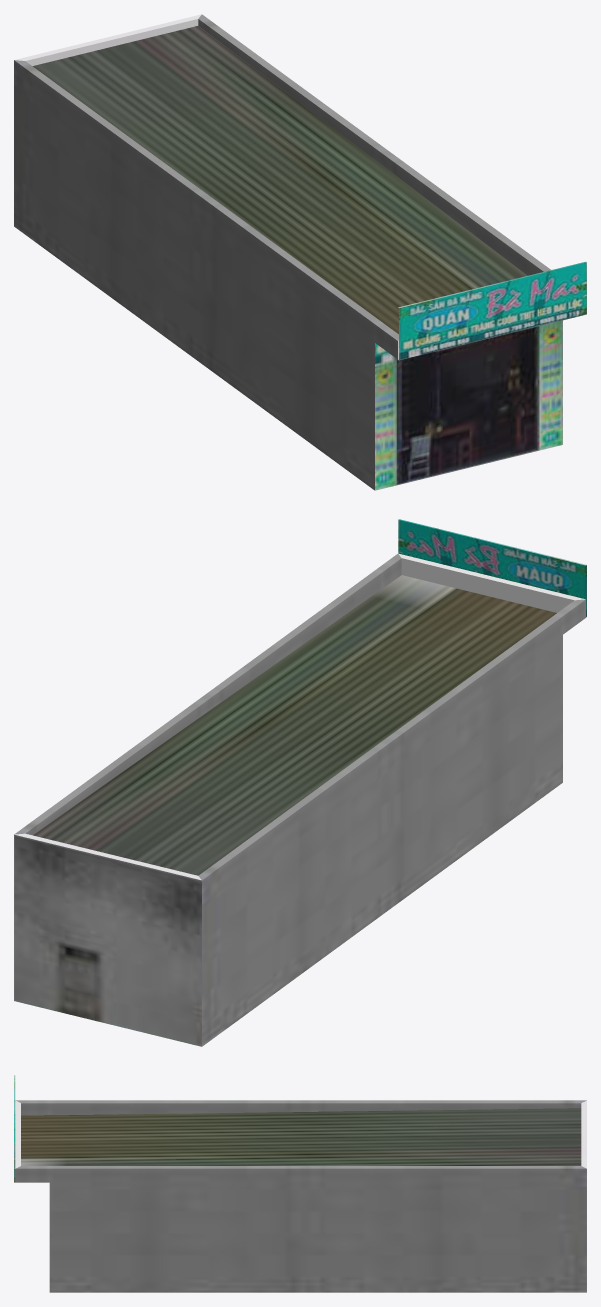
3 renders of one model, top to bottom at view 1: azimuth 30°, elevation 25°; view 2: azimuth 150°, elevation 25°; view 3: azimuth 270°, elevation 25°, orthographic. The views are drawn at different scales.
Visible parts, largest first — view 1: 5da83e29819c6a1e5c6ed36b.001; view 2: 5da83e29819c6a1e5c6ed36b.001; view 3: 5da83e29819c6a1e5c6ed36b.001.
Part boxes in pixels (<box>): 5da83e29819c6a1e5c6ed36b.001: <box>14,14,586,490</box>; 5da83e29819c6a1e5c6ed36b.001: <box>14,519,586,1046</box>; 5da83e29819c6a1e5c6ed36b.001: <box>14,1075,586,1292</box>.
Bounding box in the file's own units: 5.65 × 5.75 × 20.05.
1 material, 1 textured.
